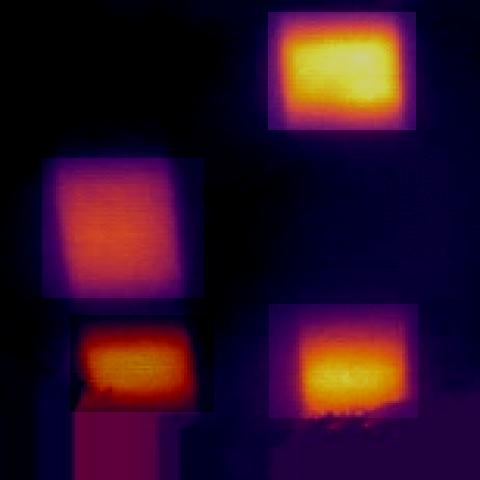fault: (42, 158, 204, 298), (268, 12, 416, 130), (269, 304, 418, 418), (70, 315, 214, 412)
